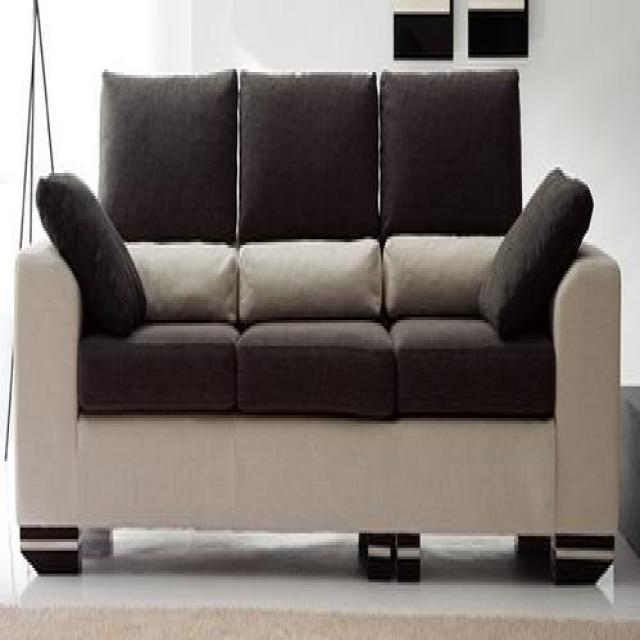sofa: (11, 67, 623, 589)
